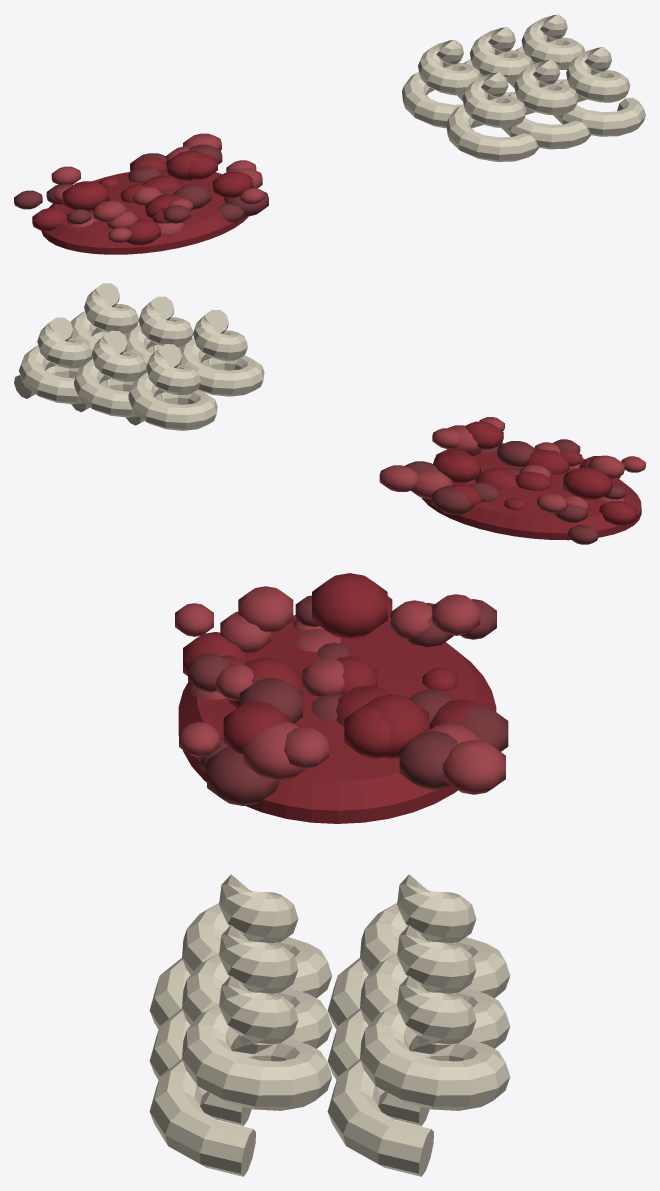
Rendered from berries.glb.
3 renders of one model, top to bottom at view 1: azimuth 30°, elevation 25°; view 2: azimuth 150°, elevation 25°; view 3: azimuth 270°, elevation 25°, orthographic. The views are drawn at different scales.
Parts seen in each view (by area): view 1: berries; view 2: berries; view 3: berries.
Part boxes in pixels (<box>): berries: <box>14,14,645,254</box>; berries: <box>14,283,645,544</box>; berries: <box>149,573,510,1176</box>.
Size of the model in its own units: 0.4569 by 0.0631 by 0.1236.
